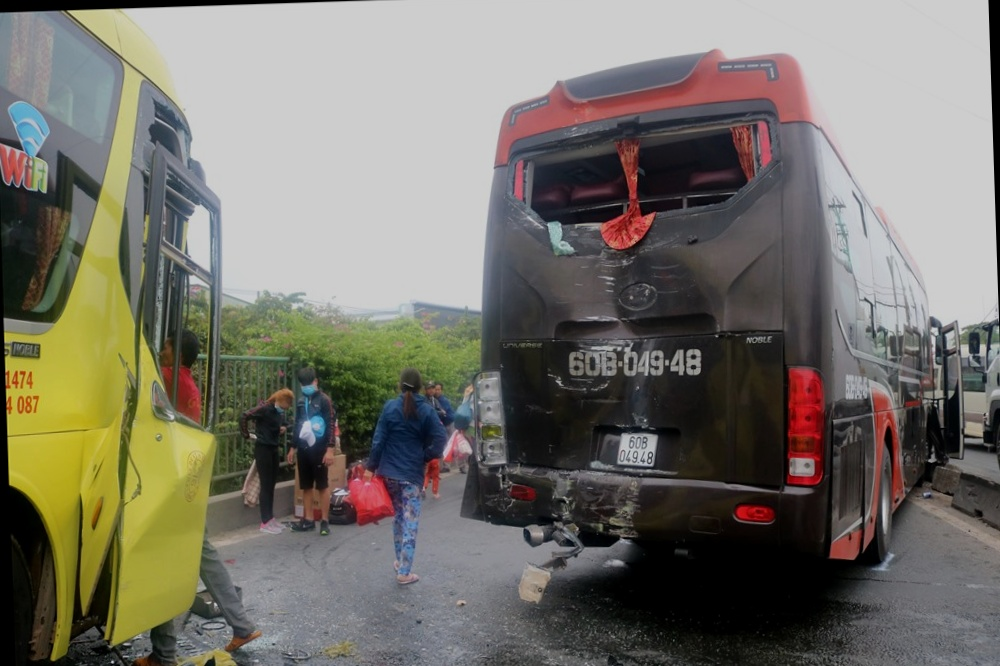Bien-so: (615, 429, 661, 469)
